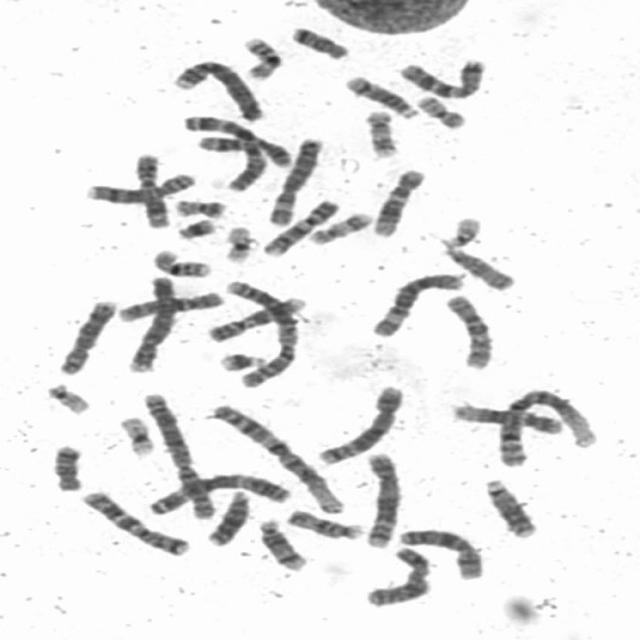A1: (205, 400, 348, 515), (490, 384, 602, 468)
A2: (136, 387, 219, 520), (218, 275, 302, 391)
A3: (180, 110, 270, 192), (143, 468, 294, 516)
B4: (167, 55, 267, 123), (122, 271, 182, 374)
B5: (312, 380, 406, 466), (359, 448, 405, 548)
C10: (439, 289, 498, 372), (113, 286, 226, 324)
C11: (192, 131, 296, 169), (129, 149, 174, 229)
C12: (368, 164, 428, 238), (446, 399, 566, 436)
C6: (366, 268, 468, 339), (264, 132, 328, 228)
C7: (76, 487, 192, 558), (394, 54, 488, 100)
C8: (51, 295, 121, 376), (79, 168, 200, 205)
C9: (202, 292, 311, 344), (259, 195, 342, 258)
D13: (478, 474, 542, 539), (202, 486, 252, 547)
D14: (341, 71, 421, 120), (252, 515, 310, 572)
D15: (438, 242, 518, 291), (281, 506, 366, 540)
E16: (237, 32, 286, 82), (147, 244, 215, 279)
E17: (304, 206, 377, 246), (360, 105, 402, 158)
E18: (286, 22, 353, 61), (47, 440, 87, 492)
F19: (112, 411, 158, 457), (219, 221, 257, 264)
F20: (410, 91, 469, 130), (170, 194, 230, 218)
G21: (213, 347, 268, 372), (171, 214, 219, 241)
G22: (40, 378, 94, 416), (436, 212, 484, 249)
X: (394, 524, 489, 581), (359, 541, 434, 608)
